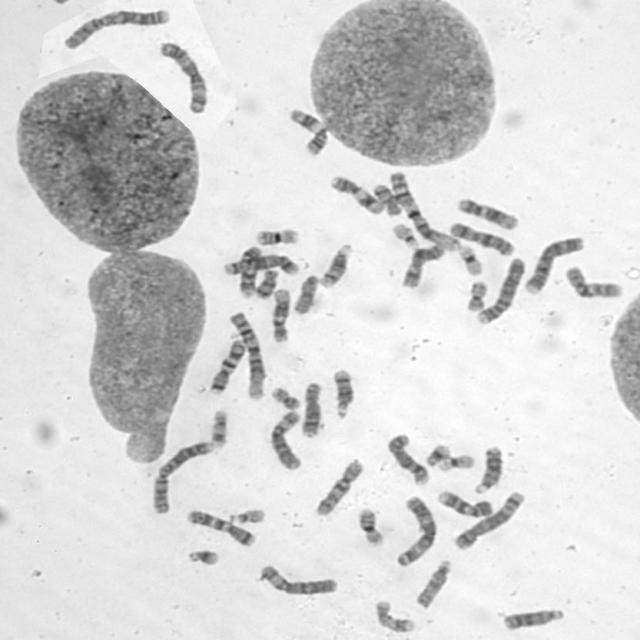A1: (389, 170, 461, 252), (229, 310, 267, 401)
A2: (150, 439, 216, 515), (60, 8, 172, 50)
A3: (159, 40, 211, 114), (395, 493, 438, 569)
B4: (523, 234, 588, 294), (475, 256, 527, 326)
B5: (453, 489, 527, 551), (223, 253, 300, 276)
C10: (312, 458, 366, 518), (563, 264, 625, 301)
C11: (330, 172, 388, 215), (286, 106, 330, 154)
C12: (456, 197, 520, 230), (270, 288, 292, 345)
C6: (260, 563, 342, 600), (268, 410, 305, 472)
C7: (186, 508, 256, 547), (208, 339, 248, 395)
C8: (387, 433, 430, 488), (300, 380, 323, 439)
C9: (437, 489, 496, 518), (236, 245, 262, 300)
D13: (470, 444, 507, 498), (500, 606, 568, 632)
D14: (318, 240, 356, 290), (330, 368, 358, 422)
D15: (413, 559, 455, 609), (291, 274, 320, 316)
E16: (355, 507, 386, 548), (254, 228, 301, 246)
E17: (373, 598, 418, 632), (210, 408, 229, 446)
E18: (374, 182, 404, 219), (255, 266, 281, 300)
F19: (457, 244, 484, 276), (436, 454, 478, 473)
F20: (270, 386, 301, 412), (465, 280, 489, 312)
G21: (185, 547, 222, 569), (424, 443, 453, 468)
G22: (391, 223, 421, 251), (228, 506, 268, 524)
X: (446, 222, 517, 256), (400, 244, 447, 288)
